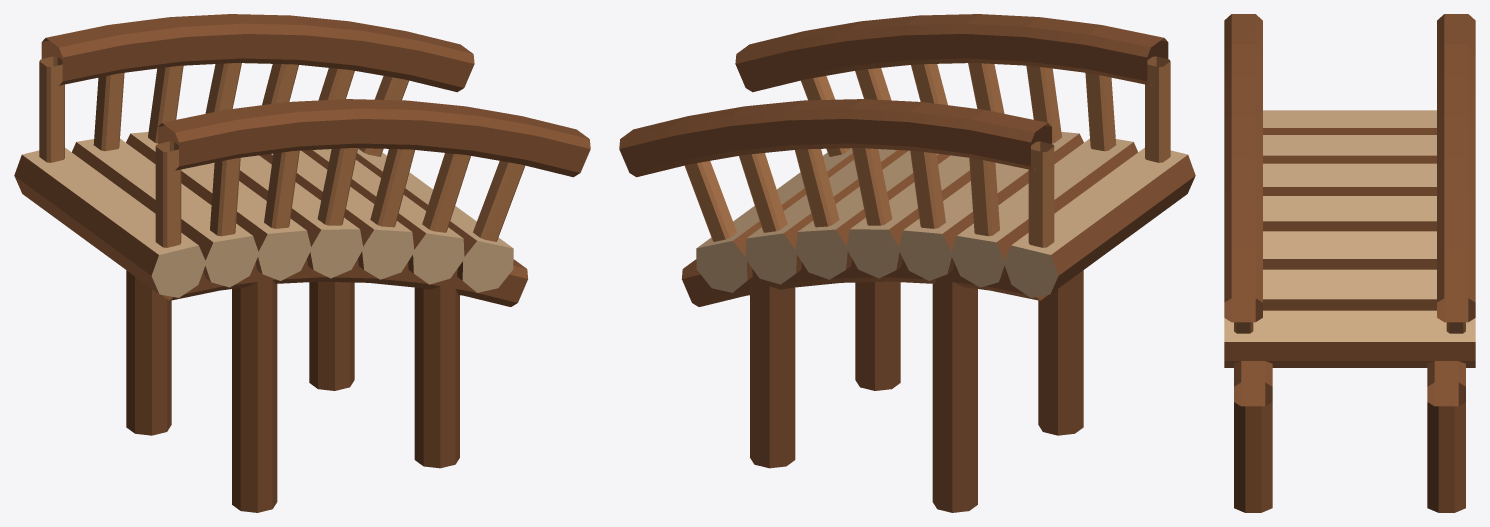
File: Track_Bridge_Incline_Gentle_Flat_Supported.obj
3 renders of one model, left to right at view 1: azimuth 30°, elevation 25°; view 2: azimuth 150°, elevation 25°; view 3: azimuth 270°, elevation 25°, orthographic. The views are drawn at different scales.
Parts seen in each view (by area): view 1: Bridge_Rail, Bridge_Pier, Bridge_Rail_Support, Log_Plank_Top, Log_Plank_End, Log_Plank_Bark, Bridge_Support_Beam; view 2: Bridge_Rail, Bridge_Pier, Bridge_Rail_Support, Log_Plank_Top, Log_Plank_End, Log_Plank_Bark, Bridge_Support_Beam; view 3: Log_Plank_Top, Bridge_Rail, Log_Plank_Bark, Bridge_Pier, Bridge_Support_Beam, Bridge_Rail_Support.
Part boxes in pixels (left/top/right/bottom): Bridge_Rail: left=41, top=14, right=590, bottom=177; Bridge_Pier: left=126, top=270, right=459, bottom=512; Bridge_Rail_Support: left=39, top=56, right=524, bottom=247; Log_Plank_Top: left=22, top=132, right=512, bottom=254; Log_Plank_End: left=151, top=229, right=513, bottom=297; Log_Plank_Bark: left=14, top=133, right=476, bottom=293; Bridge_Support_Beam: left=162, top=259, right=527, bottom=306; Bridge_Rail: left=619, top=14, right=1168, bottom=177; Bridge_Pier: left=750, top=270, right=1083, bottom=512; Bridge_Rail_Support: left=685, top=56, right=1170, bottom=247; Log_Plank_Top: left=697, top=132, right=1187, bottom=254; Log_Plank_End: left=696, top=229, right=1058, bottom=297; Log_Plank_Bark: left=733, top=133, right=1195, bottom=293; Bridge_Support_Beam: left=682, top=259, right=1047, bottom=306; Log_Plank_Top: left=1224, top=110, right=1475, bottom=341; Bridge_Rail: left=1224, top=14, right=1475, bottom=322; Log_Plank_Bark: left=1224, top=128, right=1475, bottom=367; Bridge_Pier: left=1234, top=402, right=1465, bottom=512; Bridge_Support_Beam: left=1234, top=361, right=1465, bottom=406; Bridge_Rail_Support: left=1234, top=322, right=1465, bottom=333.
Size of the model in its own units: 2.42 by 2.1 by 1.3.
